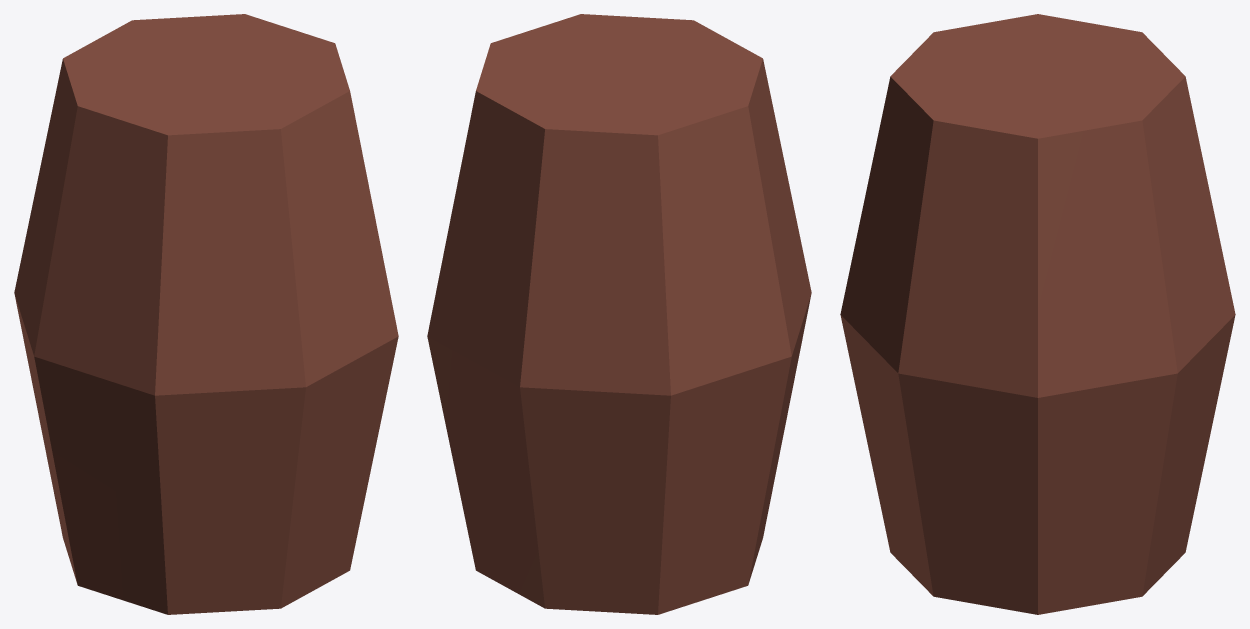
Rendered from Barrel.fbx.
3 views of the same model, side by side, from view 1: azimuth 30°, elevation 25°; view 2: azimuth 150°, elevation 25°; view 3: azimuth 270°, elevation 25° (orthographic).
Visible parts, largest first — view 1: Barrel; view 2: Barrel; view 3: Barrel.
Part boxes in pixels (box(x1,y1,x2,y2)): Barrel: box(14, 14, 398, 614); Barrel: box(427, 14, 811, 614); Barrel: box(840, 14, 1235, 614).
Bounding box in the file's own units: 1395 × 1855 × 1395.
